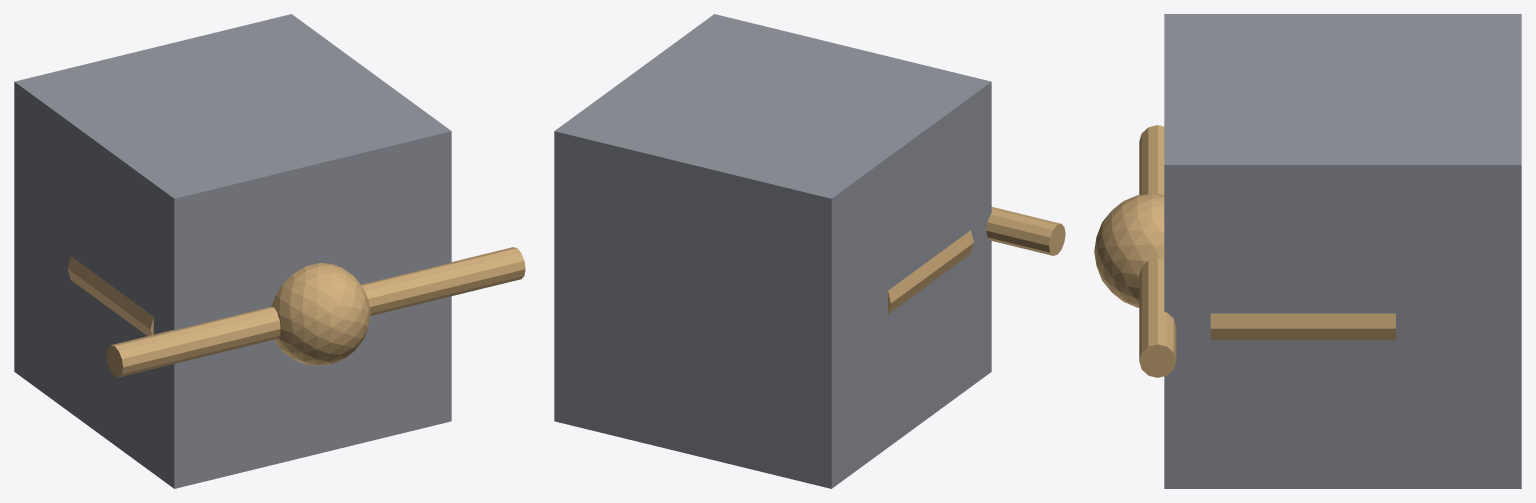
The model's file is mecha_dreadnaught.glb.
The picture shows the model from 3 angles, left to right: view 1: azimuth 30°, elevation 25°; view 2: azimuth 150°, elevation 25°; view 3: azimuth 270°, elevation 25°; orthographic projection. The views are drawn at different scales.
Parts seen in each view (by area): view 1: world; view 2: world; view 3: world.
Boxes of the visible parts, x1,y1,x2,y2 form: world: (14,14,525,488); world: (554,14,1065,488); world: (1094,14,1521,488).
Size of the model in its own units: 1.96 by 1.35 by 1.62.
